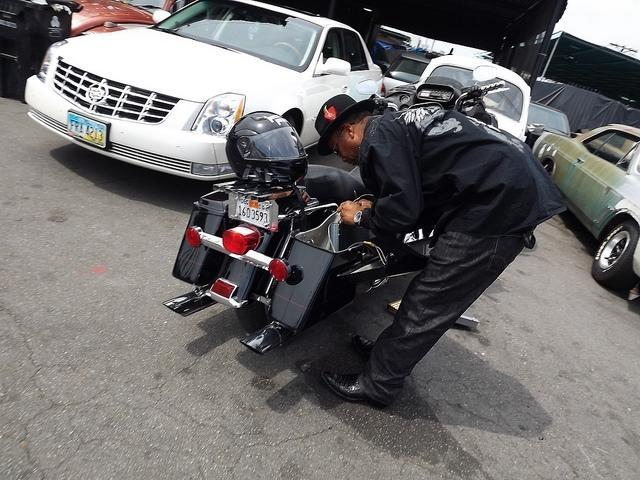car: (26, 0, 387, 182), (532, 124, 638, 278), (416, 52, 530, 142), (66, 1, 154, 33), (381, 50, 430, 94), (528, 100, 570, 150)
motorcycle: (152, 72, 514, 356)
